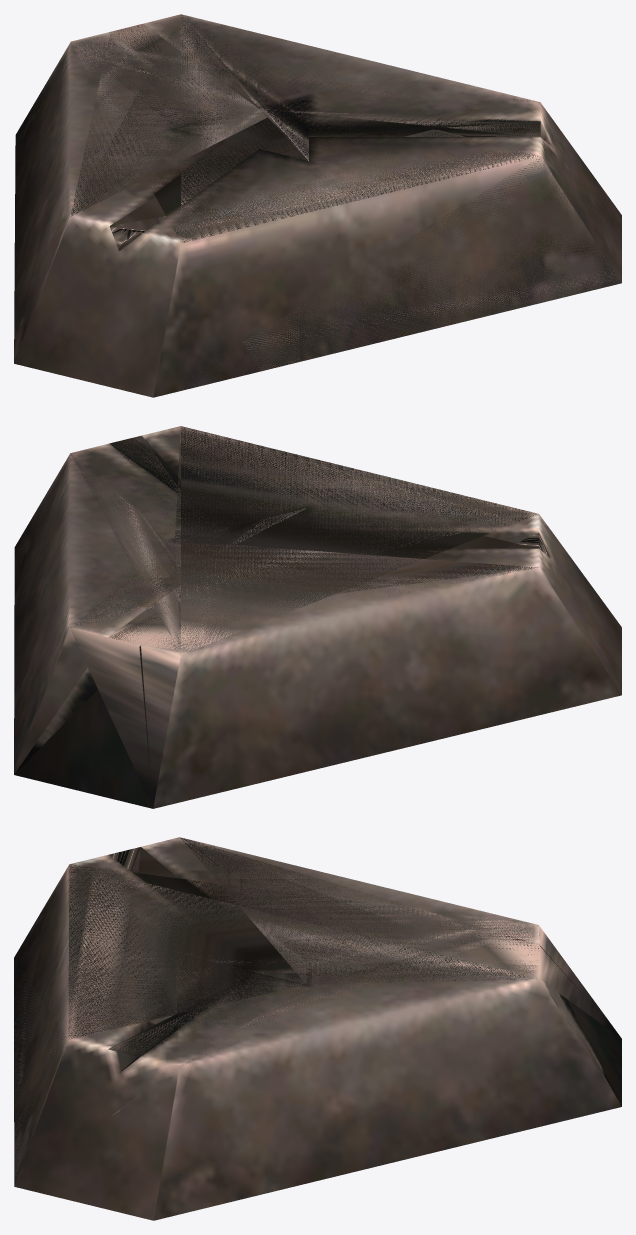
File: stst105.dae
3 renders of one model, top to bottom at view 1: azimuth 30°, elevation 25°; view 2: azimuth 150°, elevation 25°; view 3: azimuth 270°, elevation 25°, orthographic.
Visible parts, largest first — view 1: panel, col, stone1; view 2: panel, col, stone1; view 3: panel, col, stone1.
Part boxes in pixels (x1=…): panel: x1=14, y1=14, x2=621, y2=397; col: x1=71, y1=15, x2=620, y2=377; stone1: x1=181, y1=15, x2=538, y2=243; panel: x1=14, y1=426, x2=621, y2=808; col: x1=15, y1=426, x2=550, y2=808; stone1: x1=14, y1=426, x2=531, y2=808; panel: x1=14, y1=837, x2=621, y2=1220; col: x1=14, y1=838, x2=621, y2=1180; stone1: x1=68, y1=865, x2=621, y2=1147.
Size of the model in its own units: 1.9 by 1.65 by 0.3605.
1 material, 1 textured.
